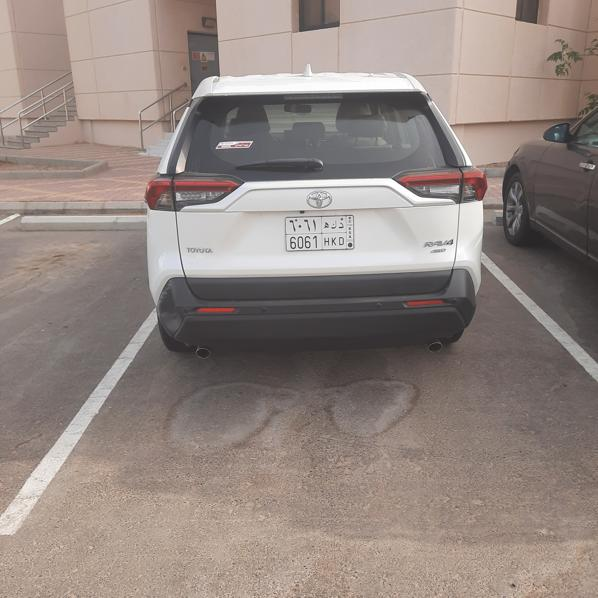numberplate: (285, 216, 355, 250)
